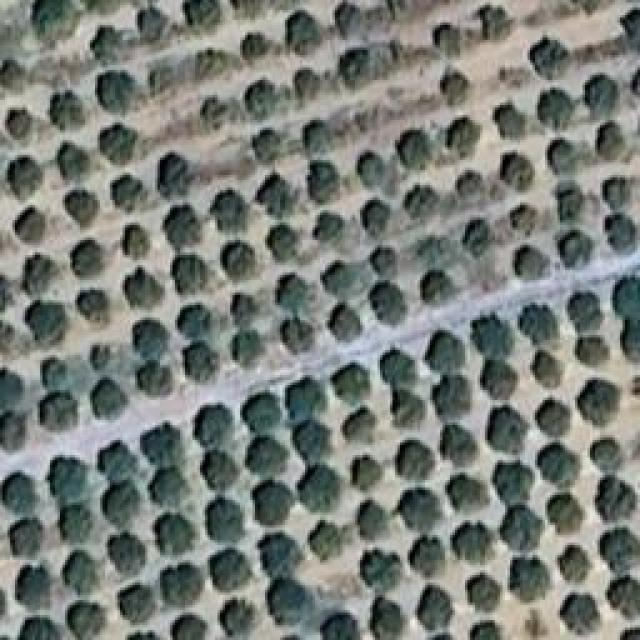Tree: (535, 438, 583, 487), (575, 375, 618, 428), (502, 502, 549, 549), (88, 68, 138, 112), (158, 555, 202, 604), (495, 450, 539, 499), (195, 400, 237, 451), (530, 32, 575, 79), (470, 310, 515, 357), (438, 373, 482, 420), (415, 583, 453, 637), (407, 532, 452, 577), (203, 500, 246, 547), (268, 575, 308, 624), (503, 562, 546, 607), (364, 545, 406, 591), (392, 444, 438, 486), (388, 382, 430, 428), (372, 348, 418, 390), (288, 375, 332, 418), (450, 475, 493, 519), (137, 423, 182, 465), (255, 530, 297, 575), (454, 517, 496, 562), (400, 484, 445, 526), (25, 298, 68, 341), (298, 468, 341, 511), (498, 150, 541, 193), (103, 482, 144, 527), (213, 550, 254, 595), (153, 152, 193, 198), (253, 480, 293, 525), (483, 357, 523, 402), (33, 0, 80, 38), (158, 508, 194, 557), (570, 330, 612, 372), (48, 88, 88, 132), (210, 188, 250, 232), (223, 595, 262, 640), (568, 285, 607, 330), (592, 475, 637, 514), (483, 406, 524, 448), (435, 423, 478, 463), (375, 280, 412, 326), (245, 433, 286, 474), (443, 115, 484, 156), (100, 120, 140, 162), (38, 393, 80, 433), (48, 454, 88, 496), (243, 385, 283, 427), (120, 265, 163, 304), (150, 470, 191, 510), (560, 228, 600, 269), (425, 328, 465, 369), (8, 515, 47, 557), (293, 420, 335, 459), (520, 303, 559, 345), (180, 0, 224, 37), (108, 528, 145, 572), (325, 303, 365, 343), (160, 208, 201, 247), (283, 10, 324, 49), (463, 573, 502, 614), (583, 67, 617, 114), (90, 25, 132, 63), (600, 528, 639, 568), (415, 268, 453, 309), (228, 325, 265, 367), (358, 495, 394, 538), (330, 0, 369, 39), (128, 318, 168, 356), (170, 253, 207, 294), (65, 190, 101, 232), (335, 43, 377, 79), (592, 437, 624, 484), (55, 143, 93, 182), (220, 240, 258, 279), (135, 358, 175, 395), (13, 565, 50, 605), (310, 523, 346, 564), (593, 123, 634, 159), (345, 453, 383, 491), (108, 170, 147, 207), (3, 475, 42, 512), (602, 208, 639, 247), (533, 350, 570, 389), (65, 238, 106, 273), (180, 340, 215, 381), (133, 3, 175, 37), (367, 597, 400, 640), (395, 125, 432, 163), (278, 315, 314, 354), (58, 503, 94, 542), (115, 583, 151, 622), (120, 220, 155, 260), (8, 158, 43, 198), (548, 490, 583, 530), (540, 398, 573, 440), (260, 175, 296, 213), (60, 550, 96, 588), (98, 440, 136, 476), (433, 18, 471, 54), (560, 590, 596, 628), (305, 160, 339, 200), (612, 272, 640, 320), (13, 205, 49, 242), (198, 93, 234, 130), (598, 173, 635, 209), (290, 65, 325, 103), (68, 603, 106, 638), (343, 410, 381, 445), (440, 70, 478, 105), (20, 258, 56, 294), (75, 285, 112, 320), (560, 543, 595, 580), (322, 260, 356, 298), (475, 5, 513, 39), (193, 50, 232, 83), (0, 53, 30, 95), (275, 270, 310, 306), (335, 365, 370, 401), (238, 30, 275, 64), (242, 80, 275, 118), (208, 453, 238, 494), (90, 383, 125, 418), (353, 143, 387, 179), (493, 102, 529, 136), (270, 220, 302, 258), (365, 240, 396, 279), (610, 575, 640, 614), (225, 292, 259, 326), (515, 245, 549, 279), (402, 182, 436, 215), (298, 122, 332, 155), (356, 198, 388, 233), (548, 138, 578, 175), (538, 90, 568, 127), (513, 200, 544, 235), (18, 615, 61, 640), (177, 305, 210, 337), (315, 212, 347, 245), (553, 183, 584, 217), (454, 170, 484, 205), (3, 105, 33, 139), (467, 617, 510, 640), (325, 610, 359, 639), (465, 215, 493, 250), (0, 415, 26, 452), (250, 128, 281, 158), (43, 352, 70, 385), (175, 615, 208, 640), (0, 370, 23, 405), (620, 315, 640, 353), (620, 8, 640, 42), (90, 343, 114, 370)
